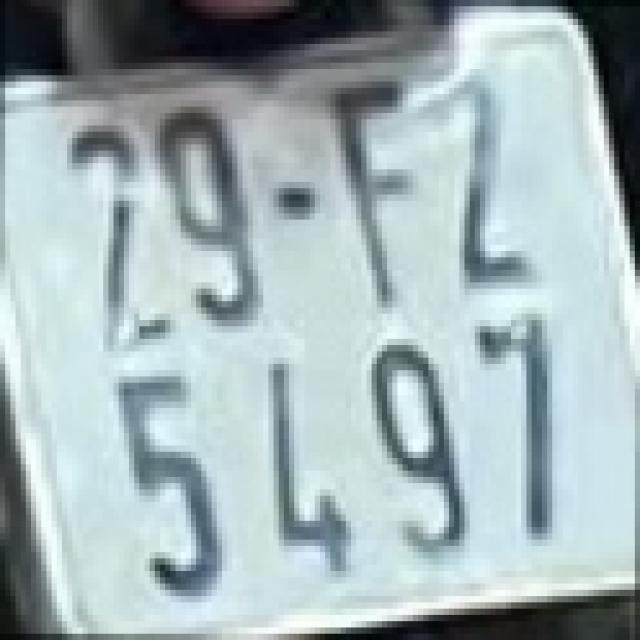1: (480, 308, 573, 540)
2: (428, 63, 542, 295), (67, 119, 176, 345)
4: (253, 352, 356, 584)
5: (114, 364, 228, 596)
9: (366, 332, 474, 558), (160, 100, 263, 327)
F: (331, 75, 428, 314)
